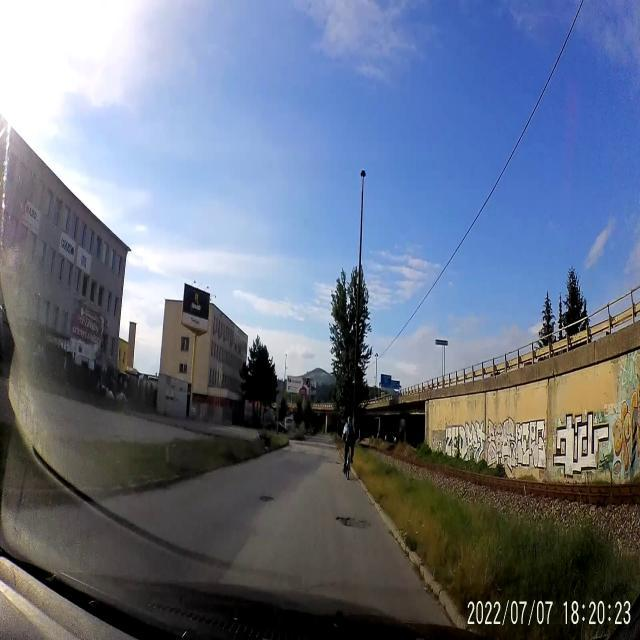Pothole: (336, 511, 370, 533), (258, 488, 280, 512)
